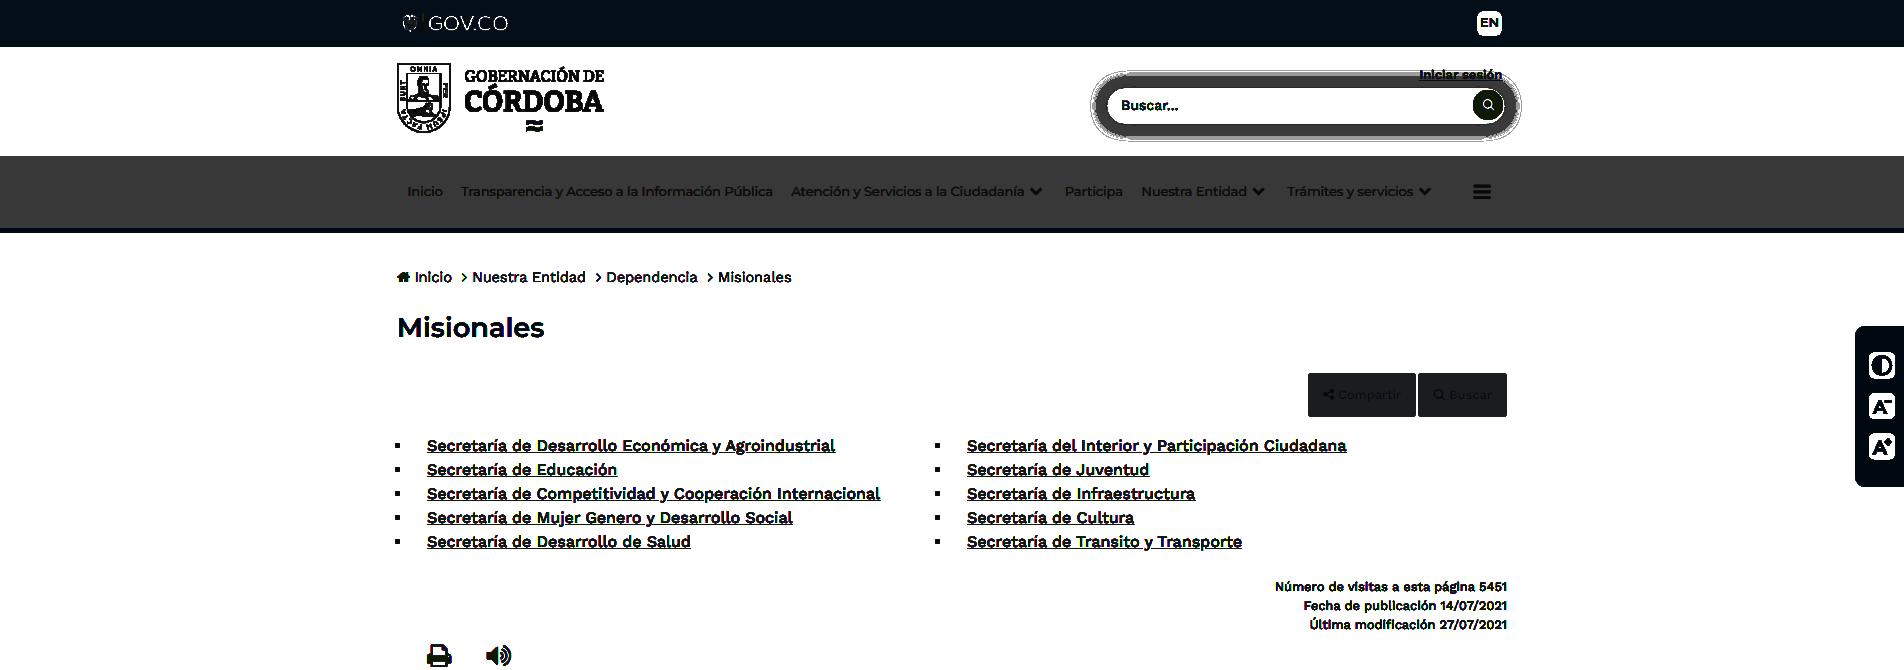barra accesibilidad: (1850, 321, 1904, 490)
barra govco: (396, 1, 1507, 50)
btn atencion ciudadano: (786, 182, 1045, 202)
btn buscador: (1101, 83, 1508, 129), (1431, 385, 1448, 405)
btn entidad: (1139, 179, 1268, 203)
btn idiomas: (1477, 10, 1502, 37)
btn inicio: (405, 182, 445, 202)
btn inicio sesion: (1417, 66, 1505, 85)
btn participa: (1063, 180, 1127, 201)
btn tramites: (1285, 181, 1436, 201)
btn transpariencia: (454, 182, 776, 201)
logogovco: (398, 7, 512, 40)
menu principal: (399, 153, 1496, 214)
